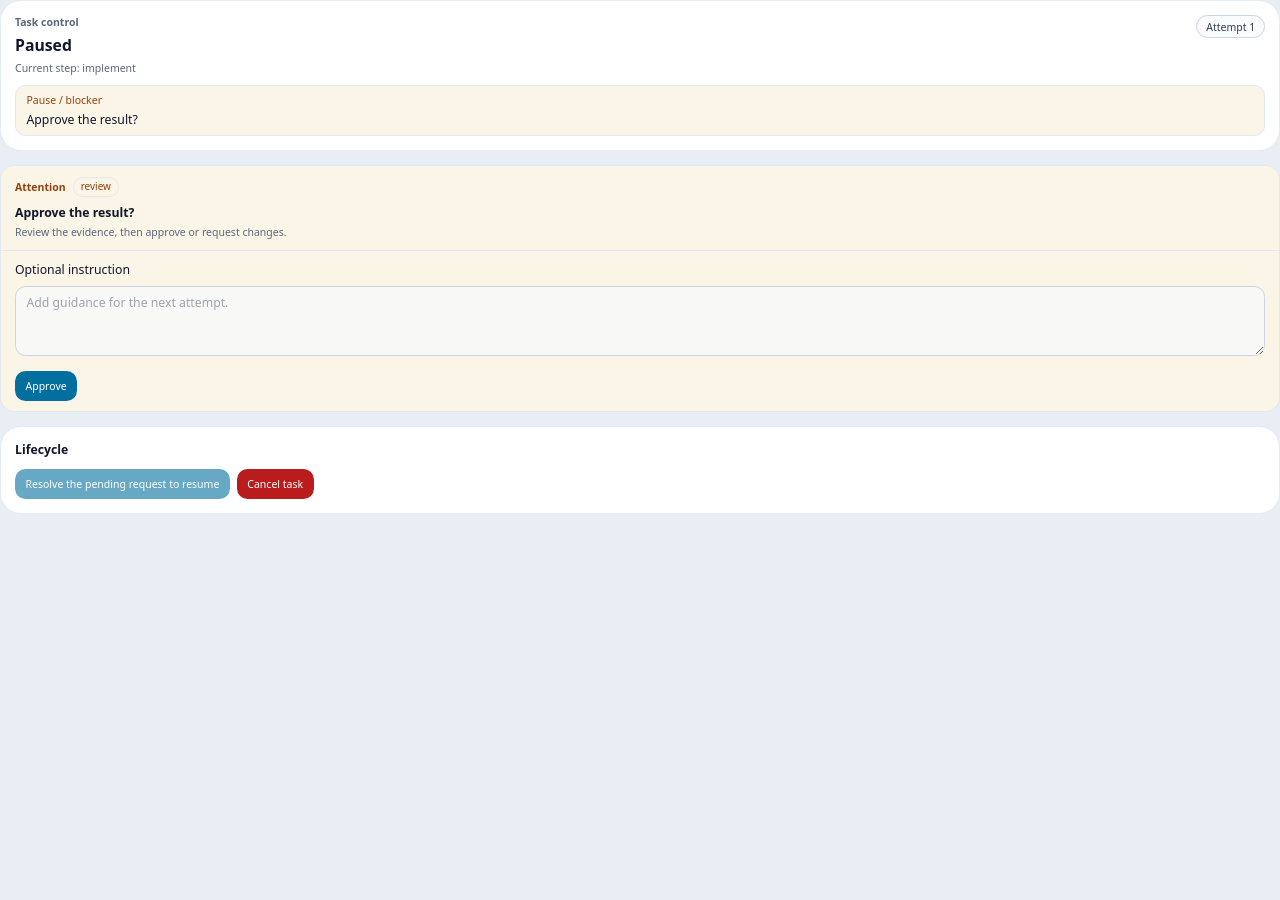
TaskDashboardControl › refreshes after a stale pause conflict so the resolved form can close
Click the button "Approve".
click(46, 386)  # box [15,370,77,400]
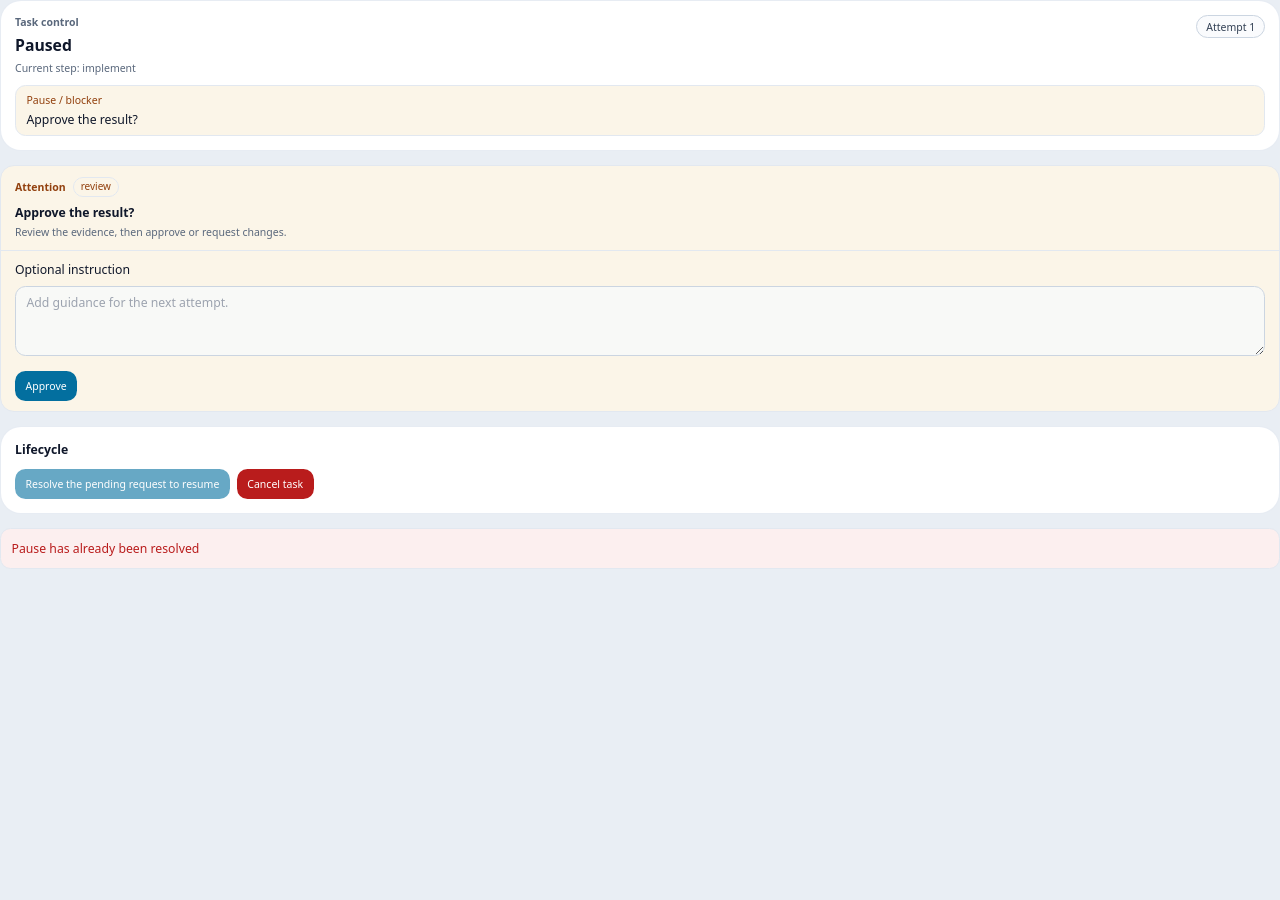
Check: the message reads "Pause has already been resolved", box [12,540,199,556]
